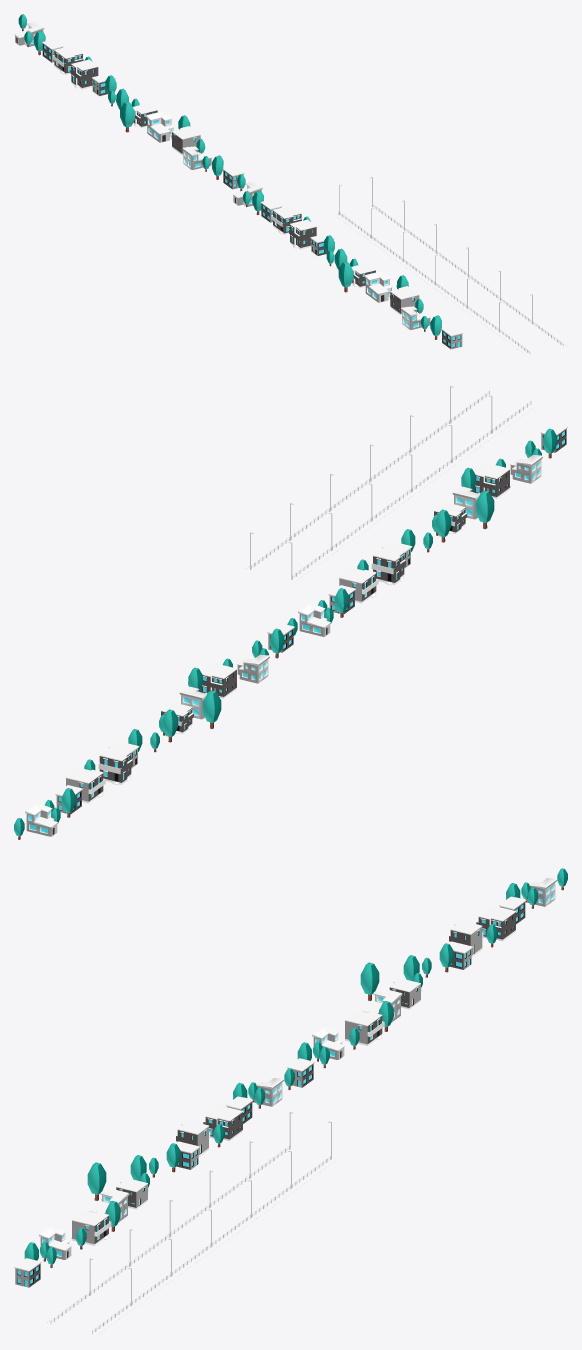
Rendered from background-animated-1.01.glb.
The picture shows the model from 3 angles, top to bottom: view 1: azimuth 30°, elevation 25°; view 2: azimuth 150°, elevation 25°; view 3: azimuth 330°, elevation 25°; orthographic projection. The views are drawn at different scales.
Parts seen in each view (by area): view 1: Houses.002, Houses.001, Rail; view 2: Houses.001, Houses.002, Rail, Lamp Post; view 3: Houses.002, Houses.001, Rail, Lamp Post.
Part boxes in pixels (<box>): Houses.002: <box>233,174,463,349</box>; Houses.001: <box>14,14,244,189</box>; Rail: <box>336,204,567,355</box>; Houses.001: <box>14,623,294,839</box>; Houses.002: <box>287,423,567,636</box>; Rail: <box>246,390,535,580</box>; Lamp Post: <box>250,386,492,579</box>; Houses.002: <box>14,1068,294,1287</box>; Houses.001: <box>287,868,567,1087</box>; Rail: <box>46,1145,335,1335</box>; Lamp Post: <box>89,1112,331,1305</box>.
Bounding box in the file's own units: 47.71 × 11.82 × 329.
Materials: 2 (2 with a texture image).
